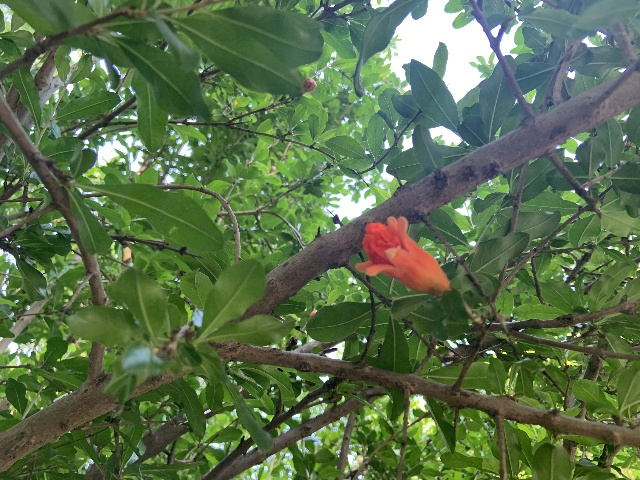bud: (302, 78, 316, 93)
flower: (354, 215, 450, 296)
